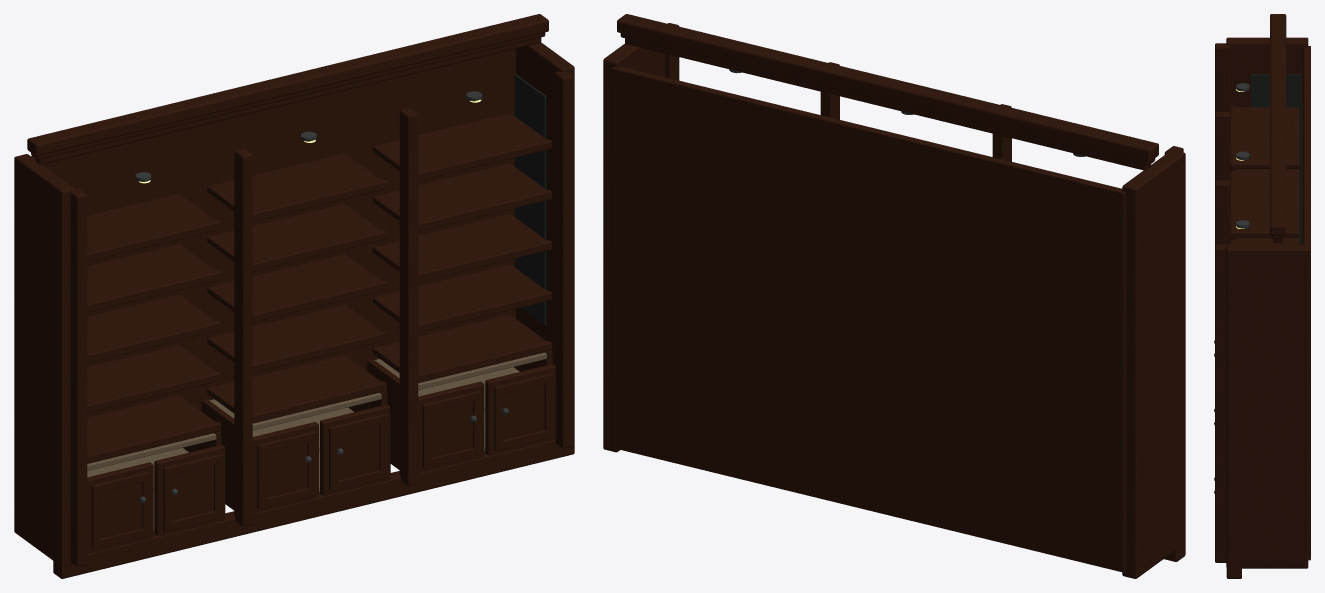
Rendered from shelf_high_end.glb.
The picture shows the model from 3 angles, left to right: view 1: azimuth 30°, elevation 25°; view 2: azimuth 150°, elevation 25°; view 3: azimuth 270°, elevation 25°; orthographic projection. The views are drawn at different scales.
Visible parts, largest first — view 1: HighEnd_BackCarcass, DisplayWall_SidePanel_01, CrownMolding_Layer01, BaseMolding_Layer01, Pilaster_03, Pilaster_02, Pilaster_04, Pilaster_01, DisplayWall_SidePanel_02, ShelfBoard_Bay02_Level02, ShelfBoard_Bay02_Level03, ShelfBoard_Bay02_Level04 (+54 smaller); view 2: HighEnd_BackCarcass, DisplayWall_SidePanel_01, CrownMolding_Layer01, DisplayWall_SidePanel_02, CrownMolding_Layer03, CrownMolding_Layer02; view 3: DisplayWall_SidePanel_02, Pilaster_04, CrownMolding_Layer01, DisplayWall_SidePanel_01, ShelfBoard_Bay02_Level05, ShelfBoard_Bay01_Level05, HighEnd_BackCarcass, DisplayWall_SideInset_01, Pilaster_02, Pilaster_01, Pilaster_03, ShelfBoard_Bay02_Level04 (+4 smaller).
Part boxes in pixels (x1=…): HighEnd_BackCarcass: x1=31, y1=49, x2=515, y2=417; DisplayWall_SidePanel_01: x1=14, y1=154, x2=74, y2=566; CrownMolding_Layer01: x1=27, y1=14, x2=548, y2=156; BaseMolding_Layer01: x1=53, y1=441, x2=574, y2=578; Pilaster_03: x1=399, y1=108, x2=418, y2=486; Pilaster_02: x1=234, y1=148, x2=252, y2=526; Pilaster_04: x1=554, y1=71, x2=572, y2=448; Pilaster_01: x1=70, y1=189, x2=87, y2=567; DisplayWall_SidePanel_02: x1=516, y1=42, x2=574, y2=441; ShelfBoard_Bay02_Level02: x1=207, y1=304, x2=380, y2=362; ShelfBoard_Bay02_Level03: x1=207, y1=254, x2=380, y2=312; ShelfBoard_Bay02_Level04: x1=207, y1=203, x2=380, y2=261; HighEnd_BackCarcass: x1=611, y1=66, x2=1125, y2=572; DisplayWall_SidePanel_01: x1=1122, y1=150, x2=1185, y2=578; CrownMolding_Layer01: x1=617, y1=14, x2=1158, y2=161; DisplayWall_SidePanel_02: x1=603, y1=43, x2=664, y2=452; CrownMolding_Layer03: x1=625, y1=38, x2=1150, y2=170; CrownMolding_Layer02: x1=620, y1=33, x2=1155, y2=165; DisplayWall_SidePanel_02: x1=1226, y1=244, x2=1308, y2=568; Pilaster_04: x1=1215, y1=244, x2=1228, y2=562; CrownMolding_Layer01: x1=1270, y1=14, x2=1286, y2=235; DisplayWall_SidePanel_01: x1=1226, y1=37, x2=1308, y2=244; ShelfBoard_Bay02_Level05: x1=1236, y1=176, x2=1299, y2=237; ShelfBoard_Bay01_Level05: x1=1236, y1=107, x2=1299, y2=168; HighEnd_BackCarcass: x1=1303, y1=46, x2=1310, y2=560; DisplayWall_SideInset_01: x1=1250, y1=74, x2=1301, y2=244; Pilaster_02: x1=1215, y1=112, x2=1230, y2=180; Pilaster_01: x1=1215, y1=43, x2=1230, y2=112; Pilaster_03: x1=1215, y1=180, x2=1230, y2=244; ShelfBoard_Bay02_Level04: x1=1236, y1=237, x2=1299, y2=244.
Size of what is drawn, in the model's own units: 3.1 by 2.4 by 0.5965.
Materials: 6 (2 with a texture image).
